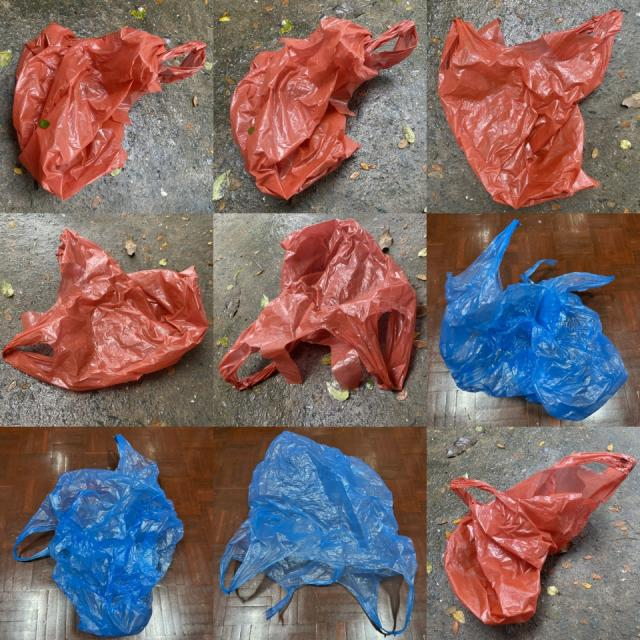Single-layer Plastic: (220, 431, 418, 634), (439, 220, 629, 419), (439, 10, 622, 208), (12, 435, 184, 638), (12, 22, 206, 199), (230, 19, 418, 199), (219, 219, 416, 390), (2, 229, 208, 391), (444, 452, 636, 625)
